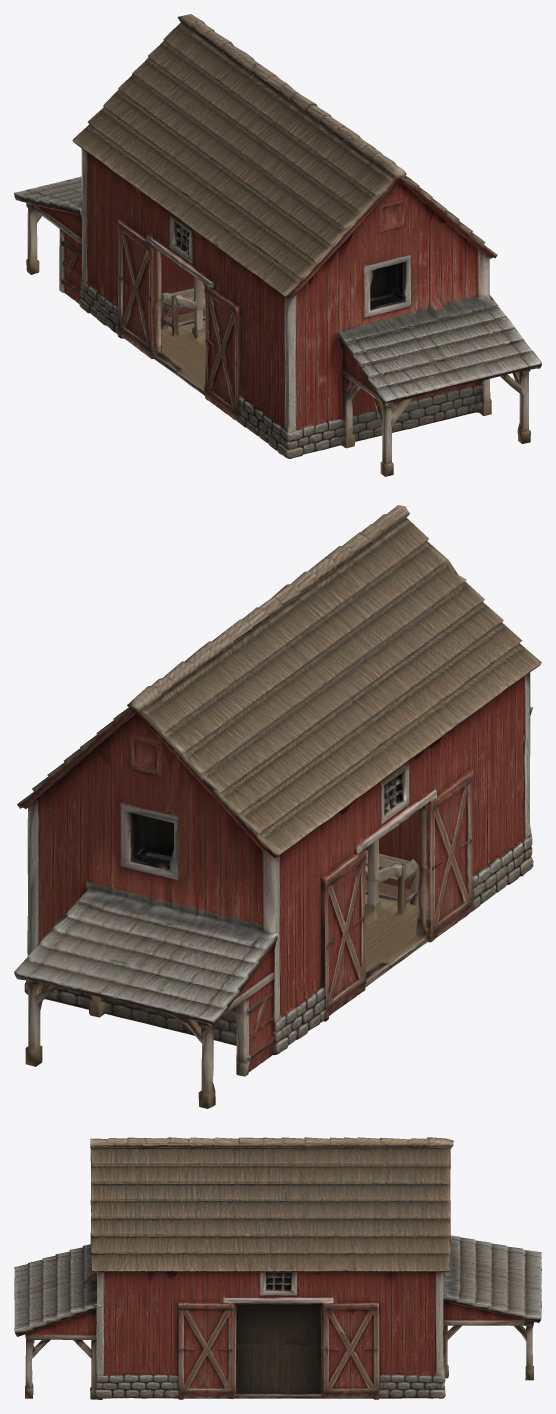
The model's file is tripo_convert_55c66873-d083-4265-b89d-40b987870459.fbx.
3 views of the same model, one above another, from view 1: azimuth 30°, elevation 25°; view 2: azimuth 150°, elevation 25°; view 3: azimuth 270°, elevation 25° (orthographic). The views are drawn at different scales.
Parts seen in each view (by area): view 1: tripo_node_55c66873; view 2: tripo_node_55c66873; view 3: tripo_node_55c66873.
Boxes of the visible parts, x1,y1,x2,y2 form: tripo_node_55c66873: [14, 14, 541, 476]; tripo_node_55c66873: [14, 505, 541, 1108]; tripo_node_55c66873: [14, 1137, 541, 1399].
Bounding box in the file's own units: 0.3876 × 0.4661 × 0.9854.
Materials: 1 (1 with a texture image).
